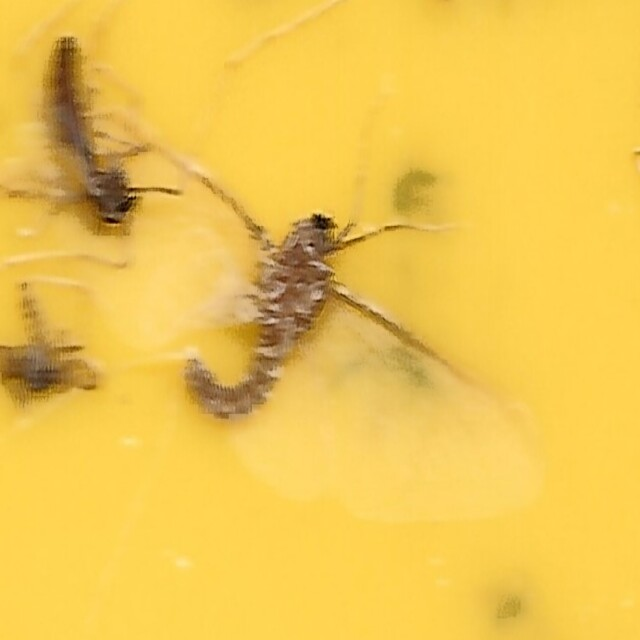Ephemeroptera: (87, 120, 553, 520)
